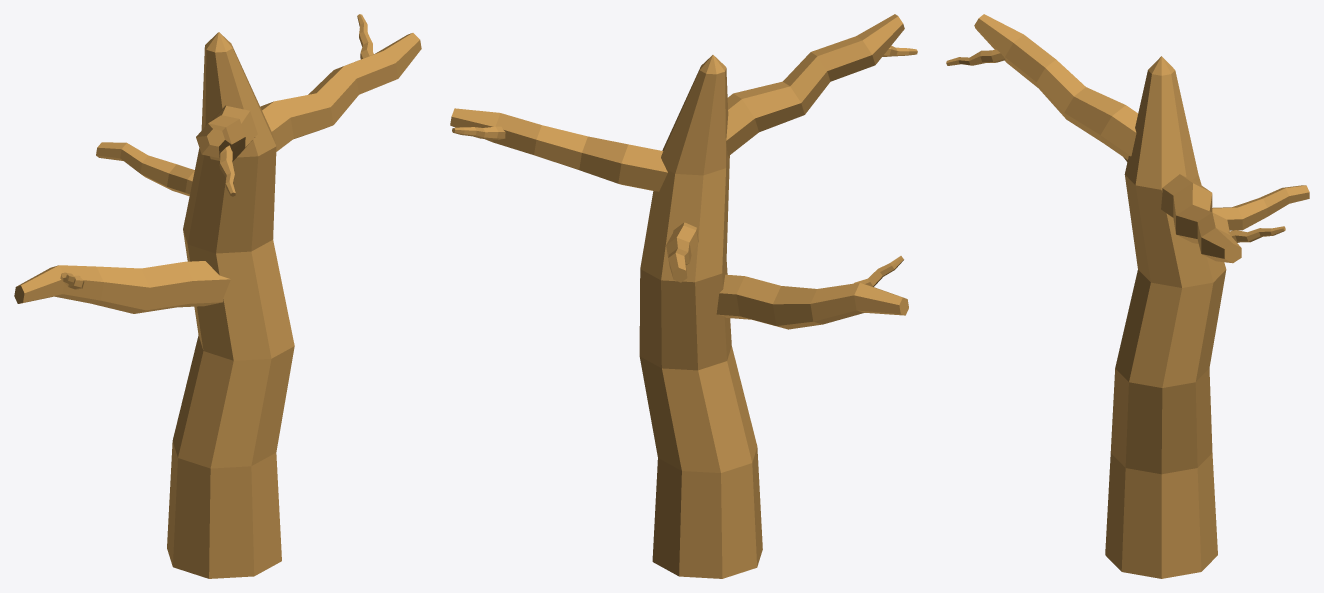
File: Tree_dead.fbx
The picture shows the model from 3 angles, left to right: view 1: azimuth 30°, elevation 25°; view 2: azimuth 150°, elevation 25°; view 3: azimuth 270°, elevation 25°; orthographic projection. The views are drawn at different scales.
Visible parts, largest first — view 1: Dead_tree; view 2: Dead_tree; view 3: Dead_tree.
Boxes of the visible parts, bbox=[...] form: Dead_tree: bbox=[14, 14, 421, 578]; Dead_tree: bbox=[450, 14, 917, 578]; Dead_tree: bbox=[946, 14, 1309, 578].
Bounding box in the file's own units: 3.99 × 4.57 × 3.03.
